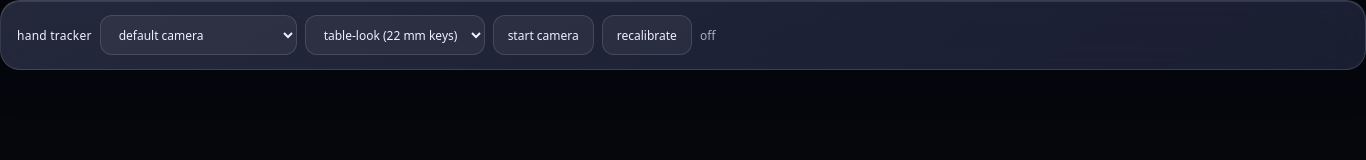
it: stops the camera when tracker initialization fails
Click the button "start camera". click: click(543, 35)
box: [493,15,594,55]
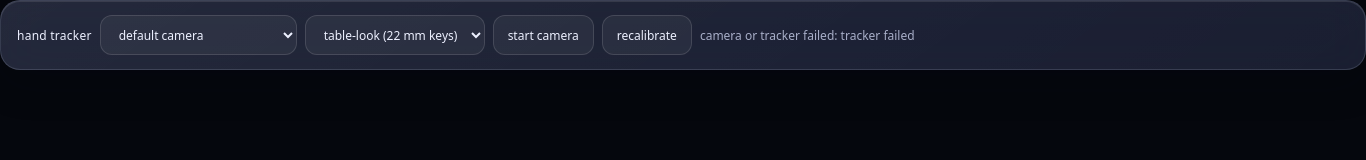
Now the text "tracker failed" is shown, box [700,26,915,44]
